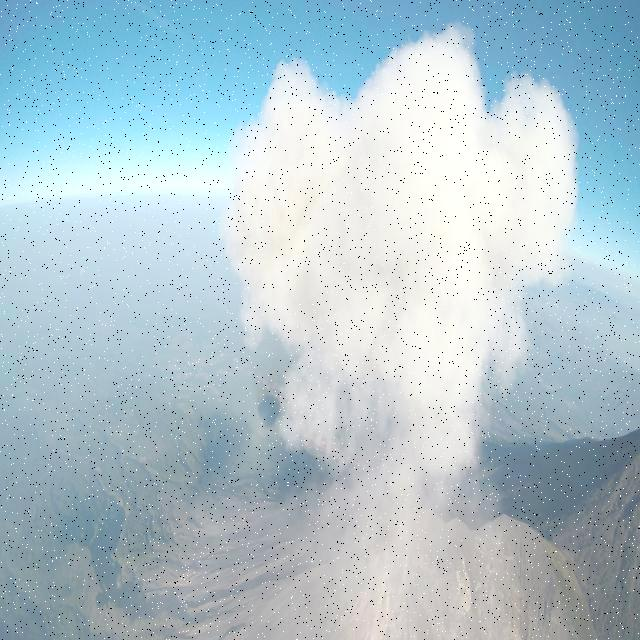Plume: (217, 19, 582, 484)
